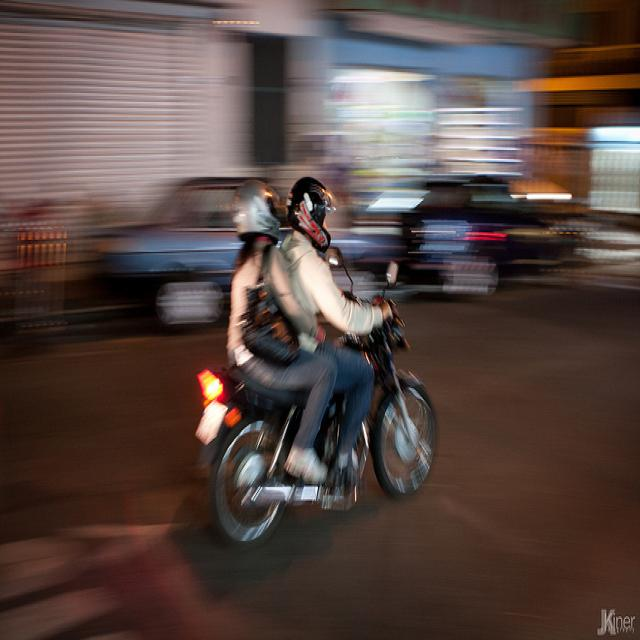motor: (195, 247, 438, 553)
